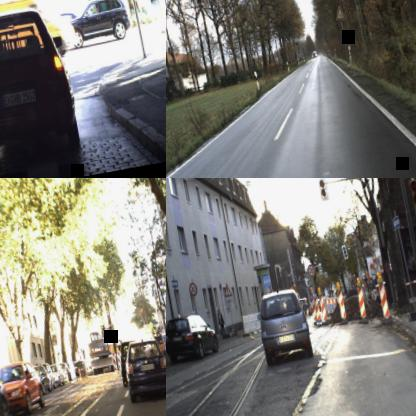CYCLES CROSSING: (332, 4, 346, 21)
DANGER: (221, 282, 232, 298)
speed limit 30: (187, 281, 198, 296), (306, 262, 315, 276)
